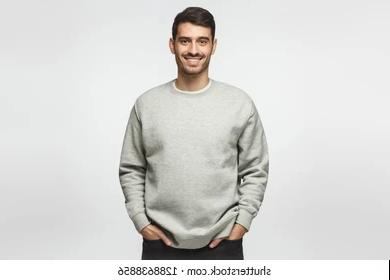sweater: (117, 76, 270, 249)
trousers: (140, 230, 245, 262)
